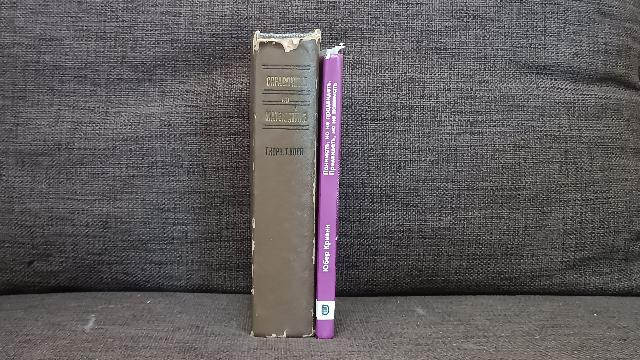book-s-spine: (253, 39, 321, 338), (315, 54, 343, 340)
